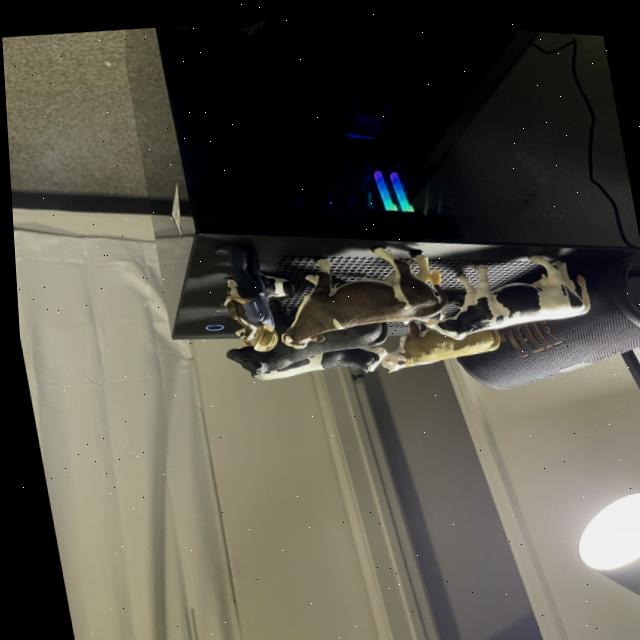cow: (261, 227, 446, 347), (212, 274, 388, 379), (408, 239, 588, 341), (369, 297, 499, 369), (246, 341, 384, 377)
person: (220, 237, 276, 351)
